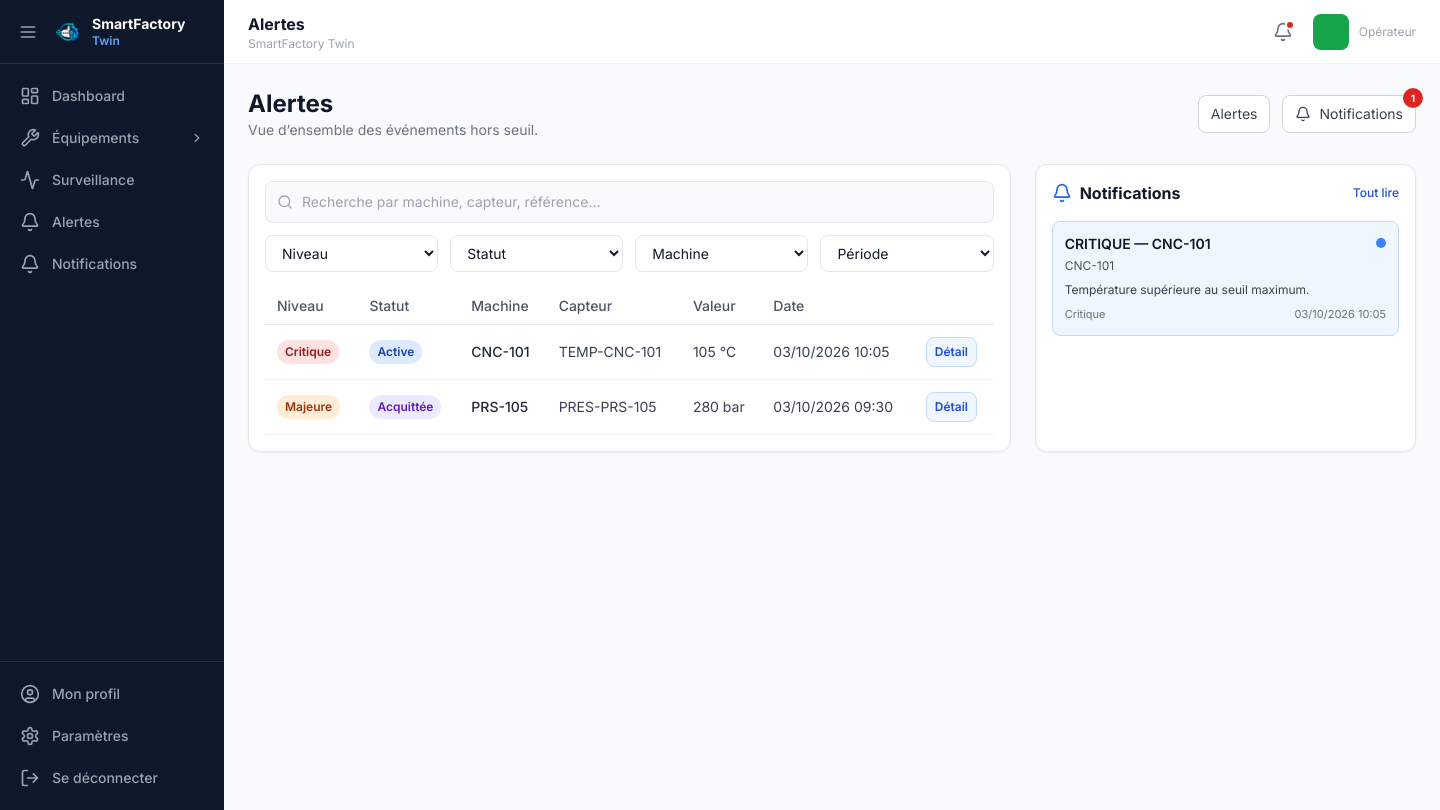
Test: AlertesPage › ne montre pas la préparation OT à un opérateur
Click the button "Détail" in the row of "Active": x=951, y=352 left=926, top=337, right=977, bottom=367
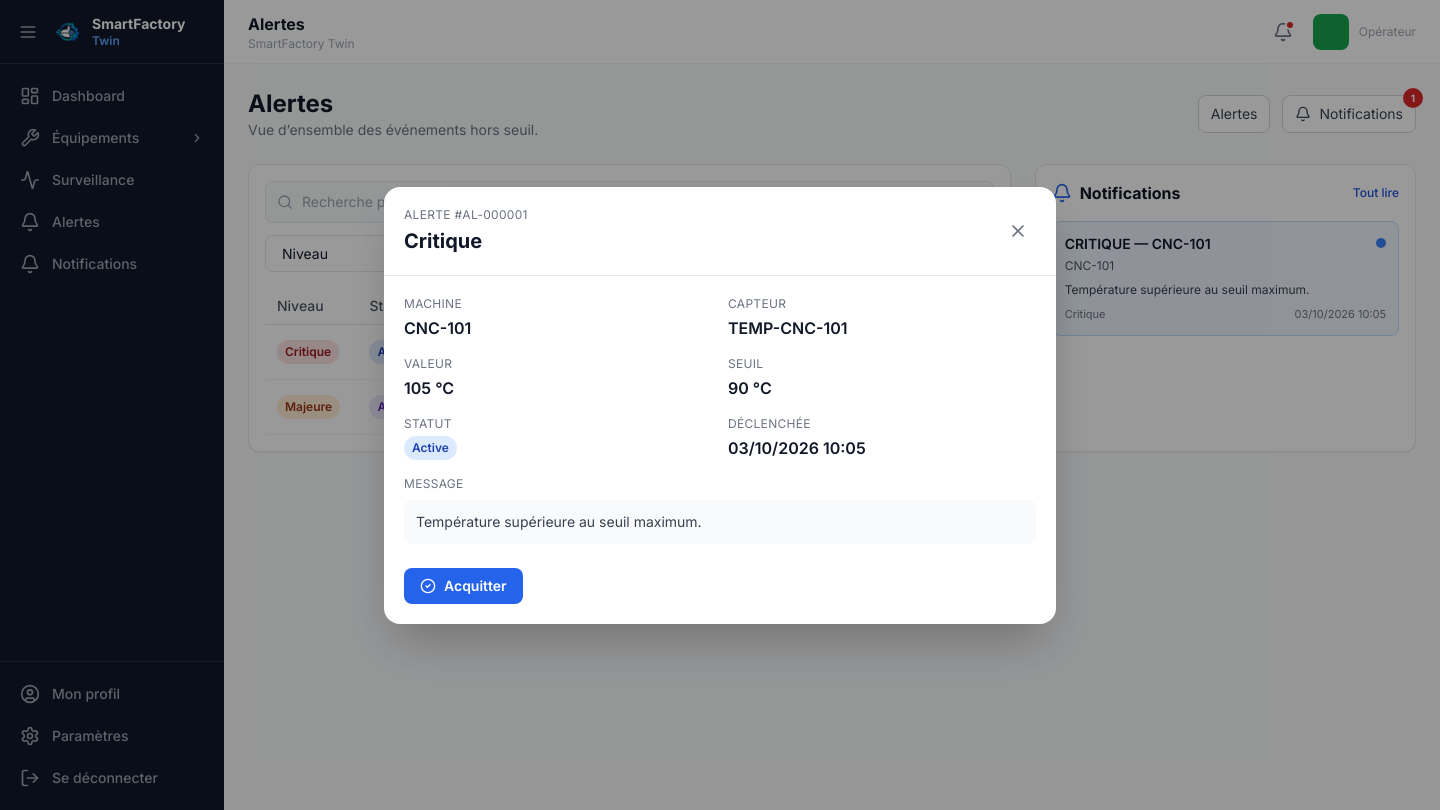
Result: the text "Alerte #AL-000001" is shown at left=404, top=206, right=528, bottom=222
